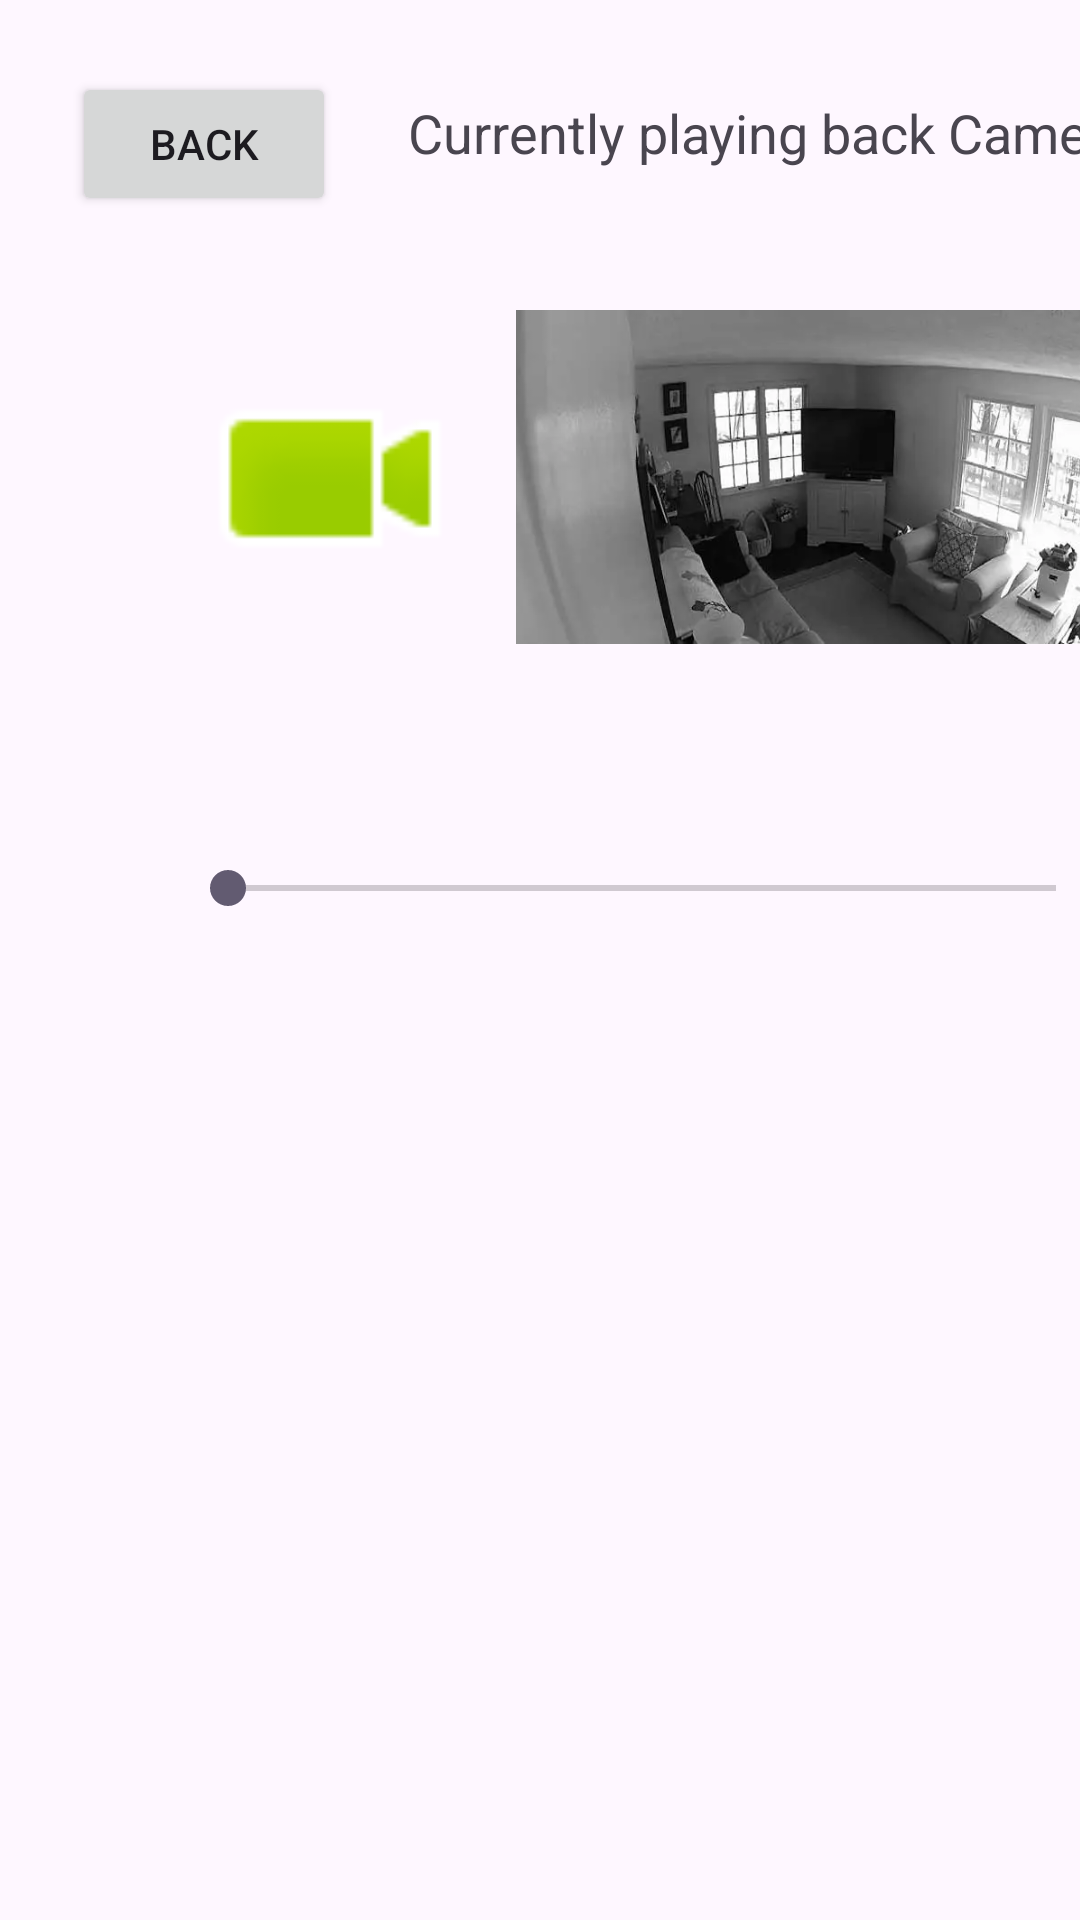

Icons on this 1080x1920 Android screen, each with its box as bbox=(x1, y1, x2, y2):
presence video online: bbox=(228, 419, 432, 538)
